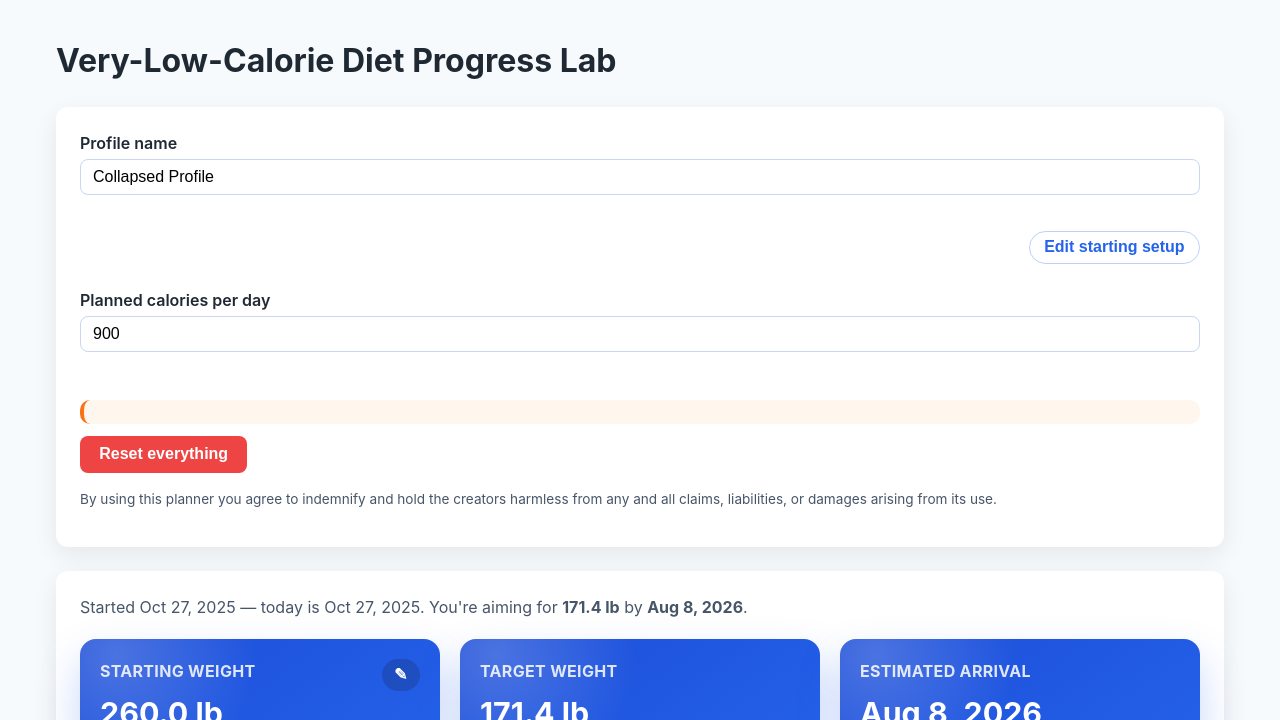
Test: Dashboard › opens the baseline editor when the plan snapshot edit control is used
The image size is (1280, 720).
Expected: the field labelled "diet start date" is not shown
Click the button named "edit starting setup".
click(401, 675)  # box [382,659,420,691]
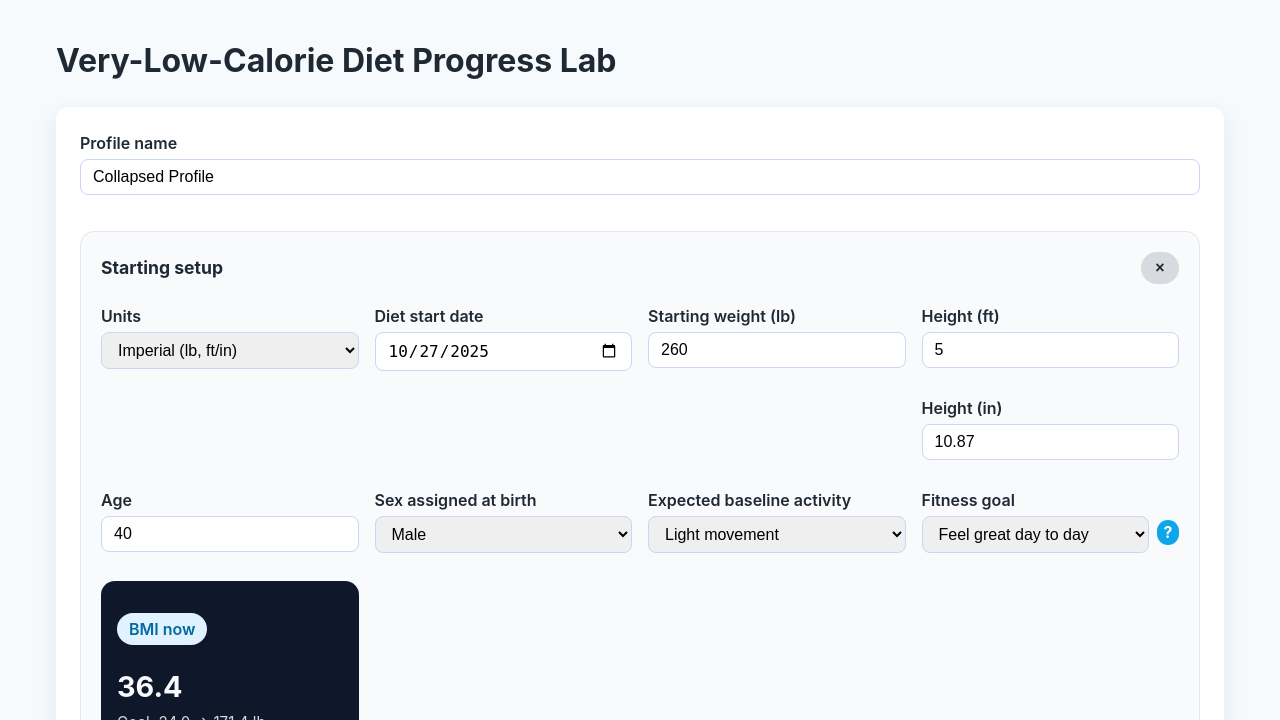
Now the date field labelled "Diet start date" is shown, box [374,332,632,371]
